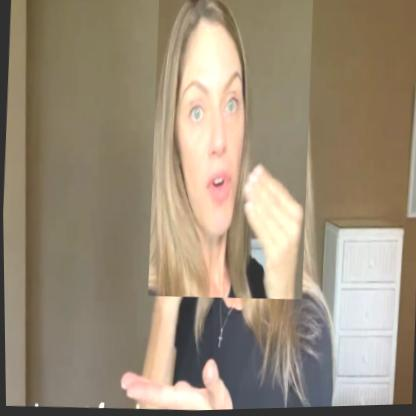Food: (143, 0, 317, 305)
